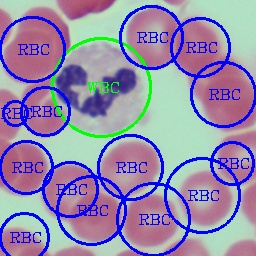RBC: (10, 0, 78, 64), (2, 28, 72, 86), (99, 139, 158, 196), (176, 167, 232, 227), (122, 4, 174, 68), (46, 161, 98, 222), (14, 83, 72, 137), (123, 192, 177, 246), (202, 76, 252, 131), (0, 140, 48, 195), (71, 190, 121, 242), (215, 124, 255, 185), (174, 16, 217, 72)
WBC: (52, 27, 148, 132)
